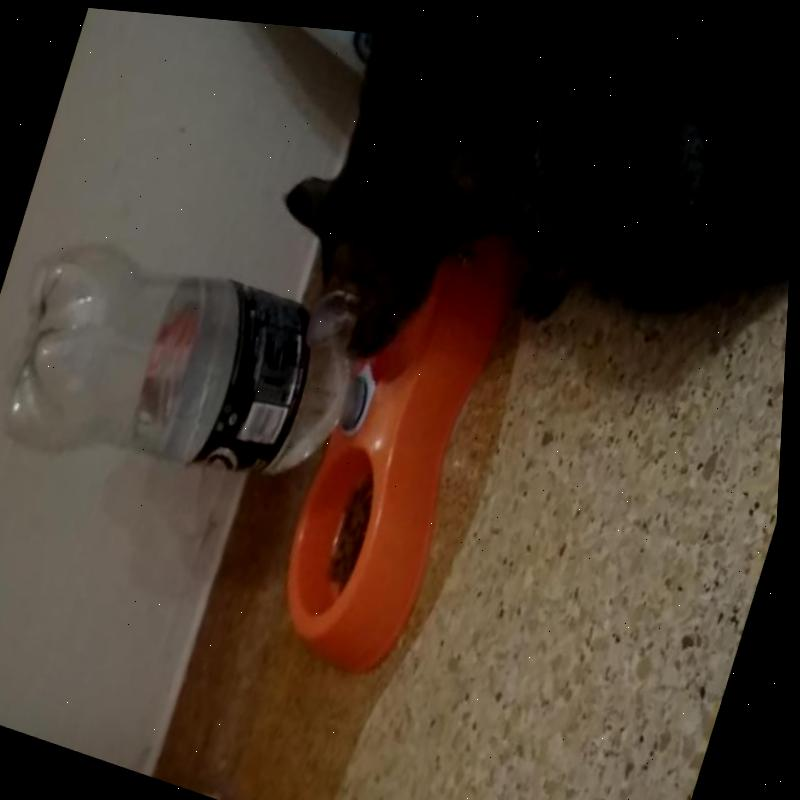botella: (0, 209, 398, 543)
